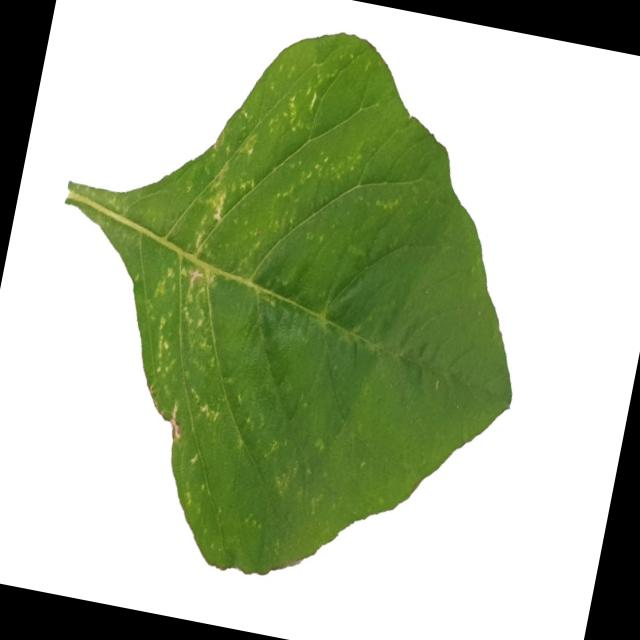Medicinal-Arive Dantu: (1, 0, 574, 613)
